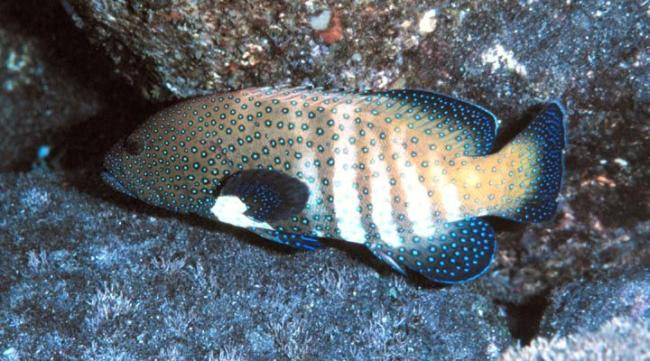fish: (98, 84, 566, 284)
